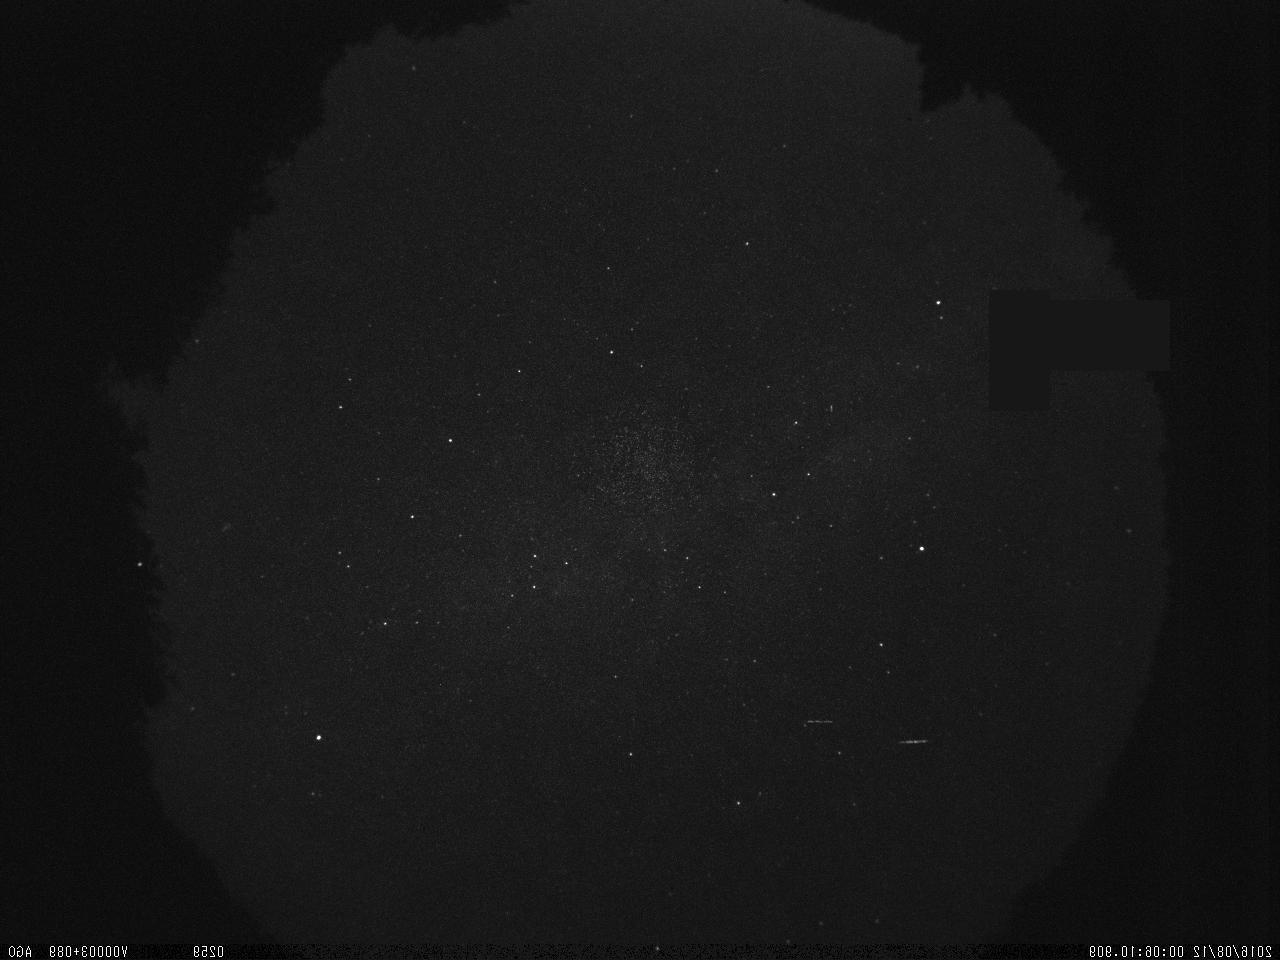satelite: (891, 728, 938, 753), (794, 711, 840, 733)
